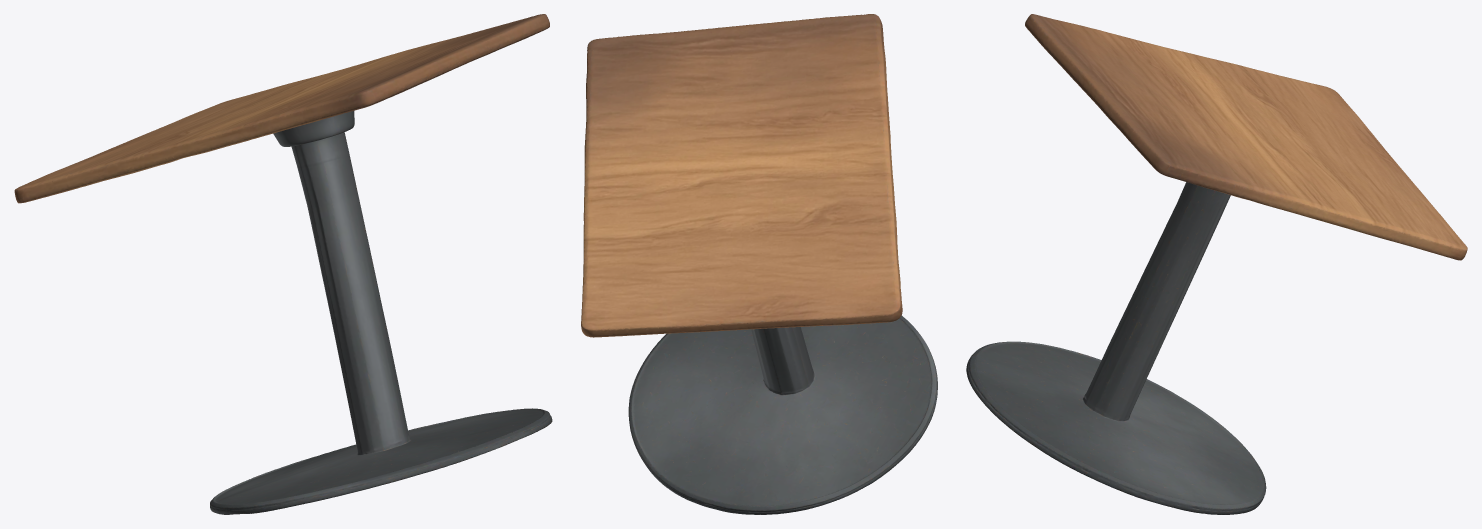
Rendered from pixal3d.glb.
The picture shows the model from 3 angles, left to right: view 1: azimuth 30°, elevation 25°; view 2: azimuth 150°, elevation 25°; view 3: azimuth 270°, elevation 25°; orthographic projection. The views are drawn at different scales.
Visible parts, largest first — view 1: world; view 2: world; view 3: world.
Part boxes in pixels (left/top/right/bottom): world: left=14, top=14, right=552, bottom=514; world: left=581, top=14, right=937, bottom=514; world: left=966, top=14, right=1467, bottom=514.
Bounding box in the file's own units: 0.8808 × 0.9254 × 0.9363.
1 material, 1 textured.
